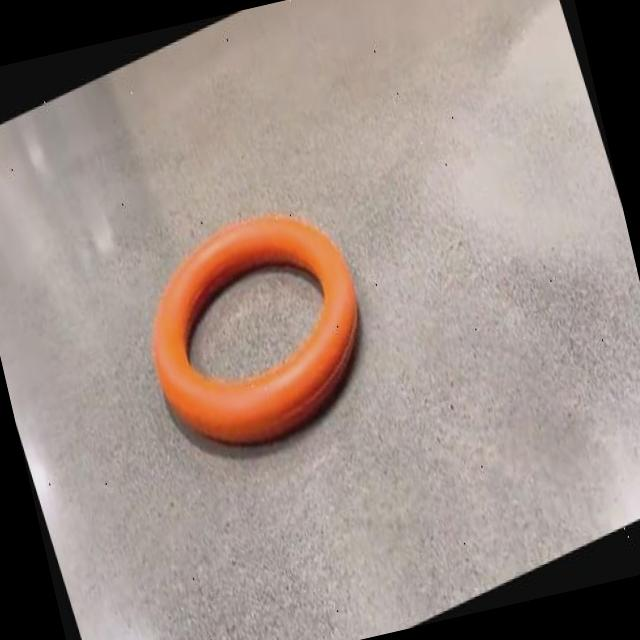note: (152, 214, 356, 443)
